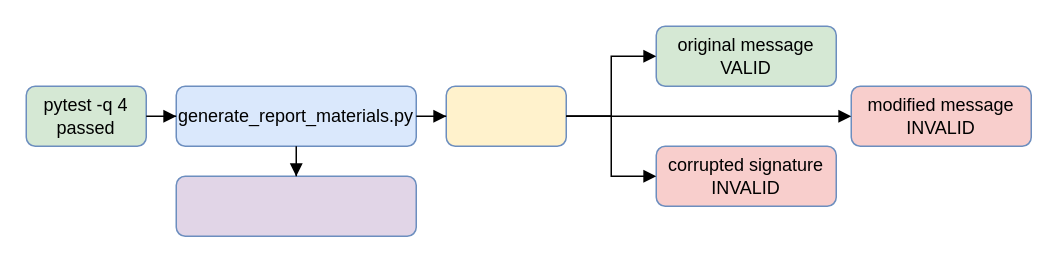
The diagram is 1058 pixels wide and 263 high, and some of its shapes have lost their labels. The shapes that lost their labels are listed below. From the top down, each one's box as (x1, y1, x2, y2) in pixels, then its label:
(445, 85, 566, 146): sign original message.sig
(175, 175, 416, 236): report/generated md/json/log/hex
